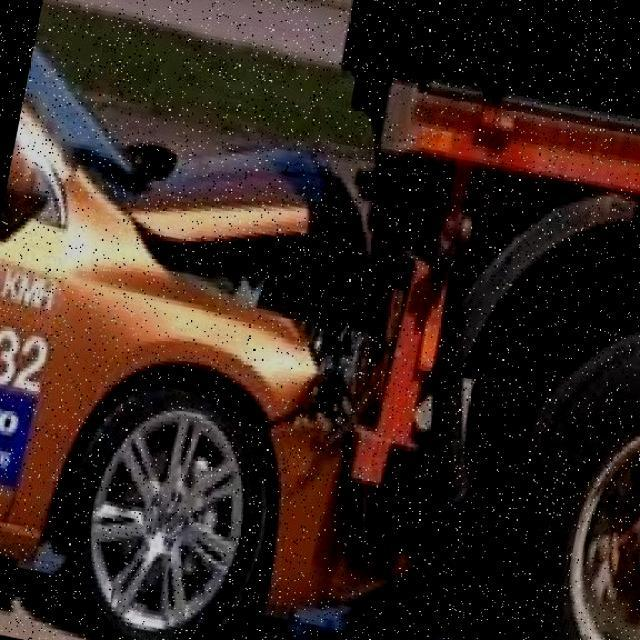accident: (0, 12, 556, 640)
